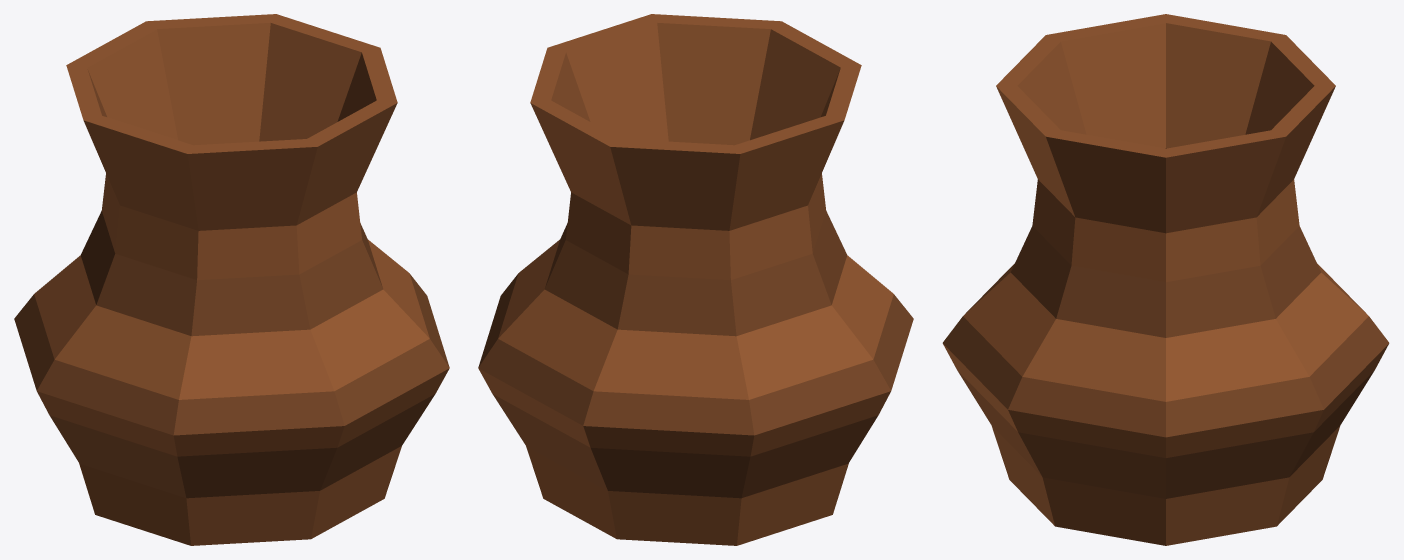
The model's file is pot_2.fbx.
3 views of the same model, side by side, from view 1: azimuth 30°, elevation 25°; view 2: azimuth 150°, elevation 25°; view 3: azimuth 270°, elevation 25° (orthographic).
Visible parts, largest first — view 1: pot_2; view 2: pot_2; view 3: pot_2.
Part boxes in pixels (x1,y1,x2,y2): pot_2: (14,14,449,545); pot_2: (478,14,913,545); pot_2: (942,14,1389,545).
Bounding box in the file's own units: 45.5 × 44.24 × 45.5.
